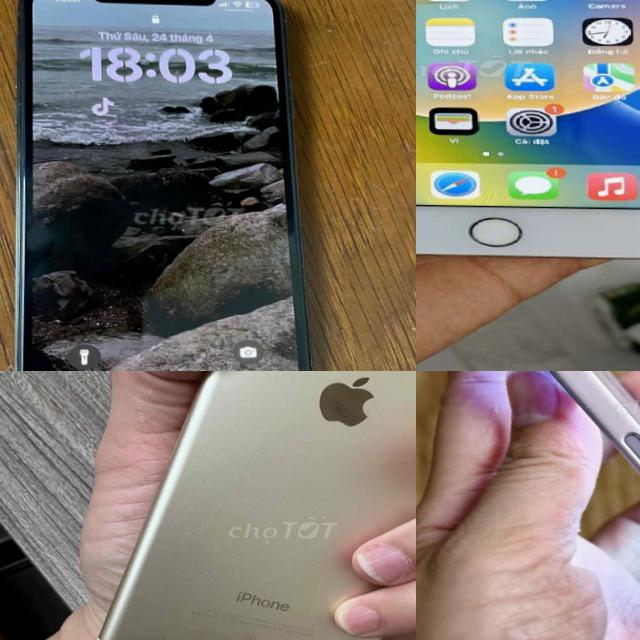gen_11: (0, 0, 320, 371)
gen_7_8: (68, 371, 416, 640), (416, 0, 640, 266)
